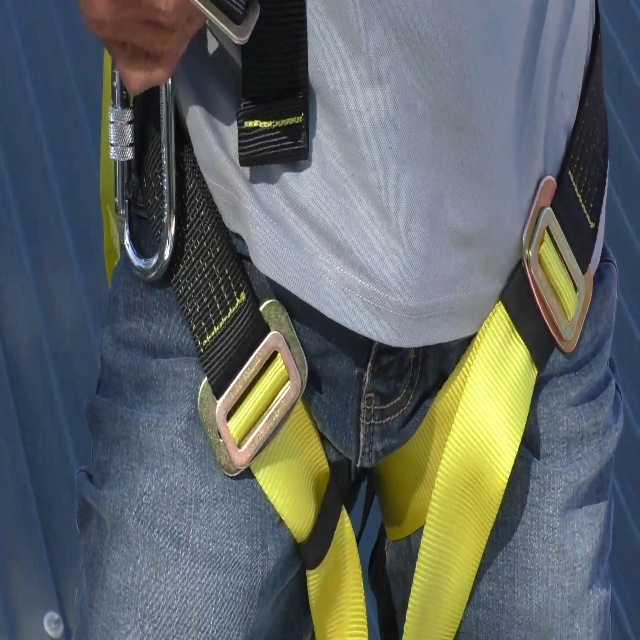Arnes_seguridad: (99, 0, 640, 640)
